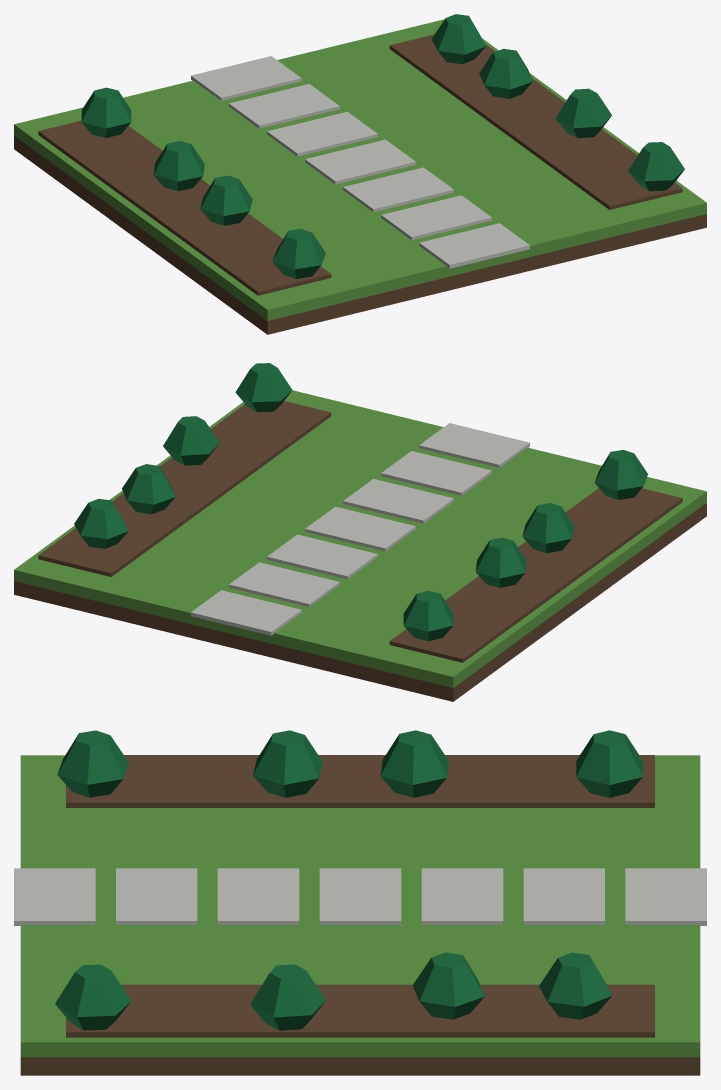
The model's file is LawnTile.glb.
3 renders of one model, top to bottom at view 1: azimuth 30°, elevation 25°; view 2: azimuth 150°, elevation 25°; view 3: azimuth 270°, elevation 25°, orthographic. The views are drawn at different scales.
Parts seen in each view (by area): view 1: Body; view 2: Body; view 3: Body.
Part boxes in pixels (<box>): Body: <box>14,14,706,334</box>; Body: <box>14,363,706,701</box>; Body: <box>14,730,706,1075</box>.
Size of the model in its own units: 6 by 0.865 by 6.12.
